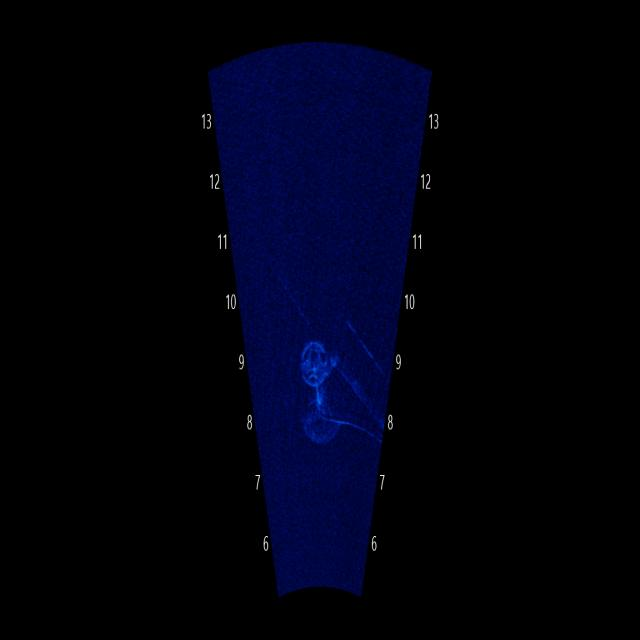circle: (290, 304, 340, 406)
